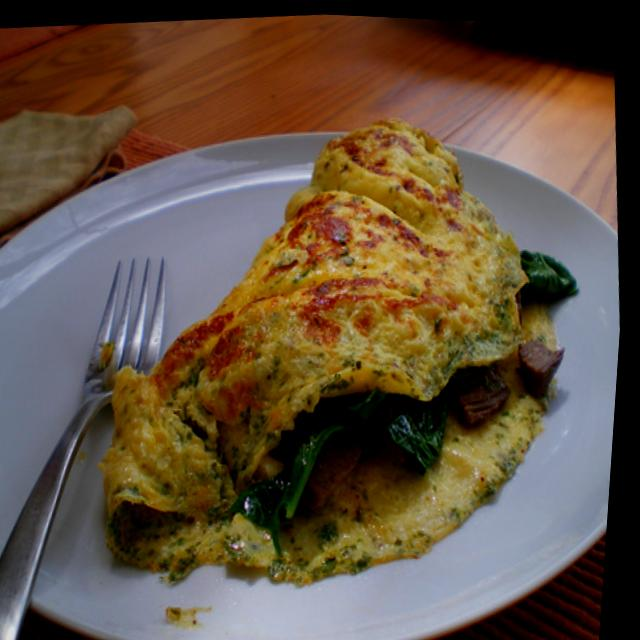鸡蛋料理: (56, 76, 627, 621)
